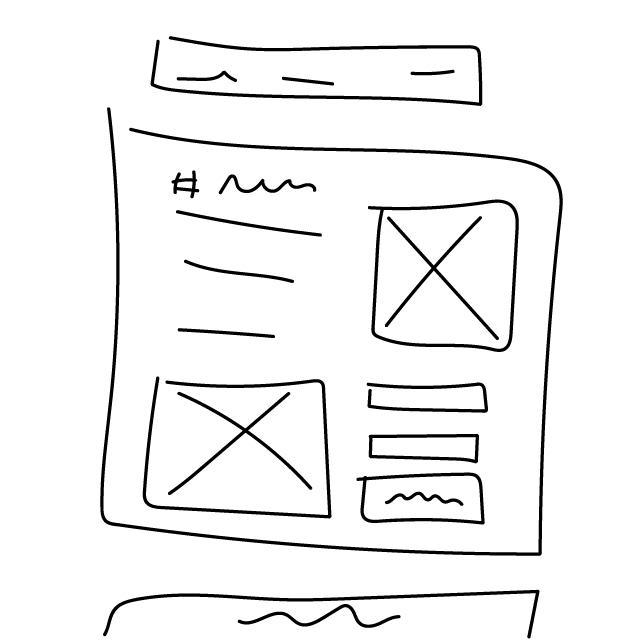button: (355, 470, 490, 528)
container: (87, 106, 569, 568)
footer: (103, 585, 544, 640)
frame: (142, 371, 336, 524), (364, 199, 528, 350)
heading: (172, 164, 325, 204)
input: (362, 379, 495, 417), (367, 427, 484, 466)
nav: (150, 30, 487, 110)
text: (162, 208, 327, 349)
